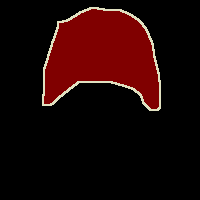hat: (42, 8, 160, 110)
